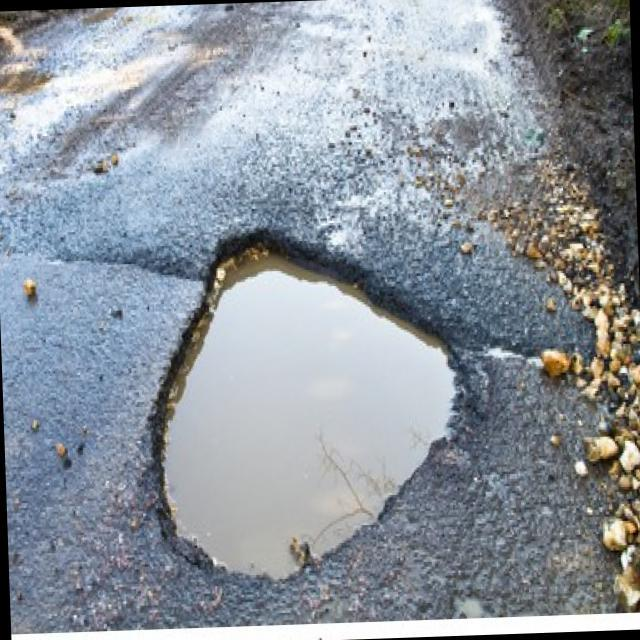Pothole: (136, 215, 475, 586)
